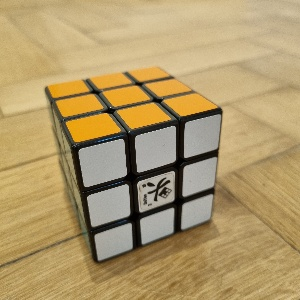cube: (44, 66, 225, 265)
